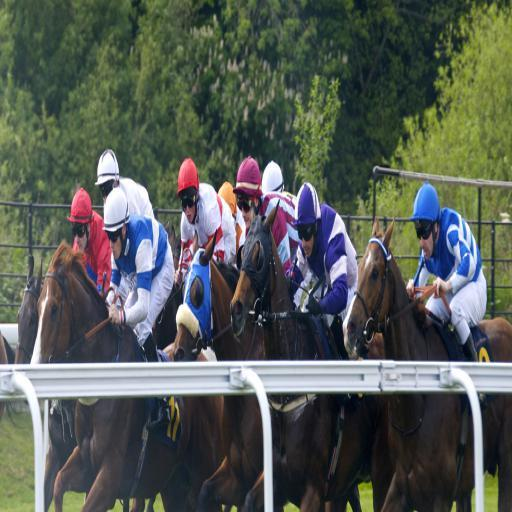horse: (16, 195, 512, 511), (0, 331, 24, 422)
